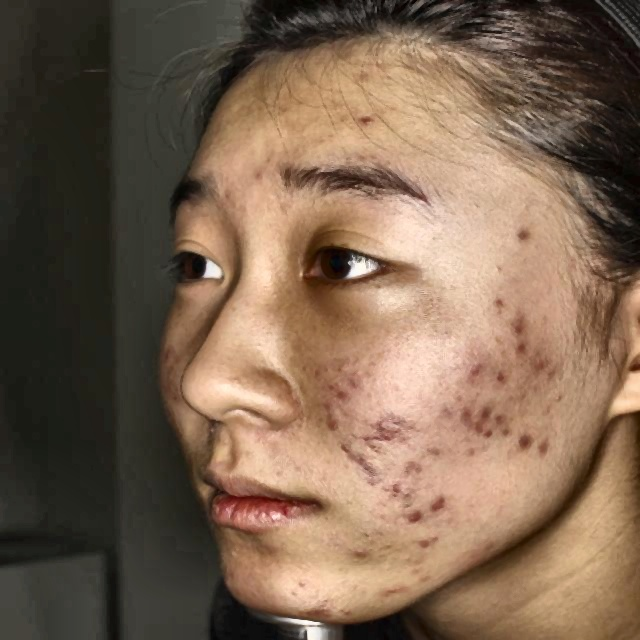papule: (386, 496, 426, 526), (372, 410, 410, 441), (300, 598, 339, 623), (369, 475, 404, 502), (377, 580, 409, 607), (324, 394, 346, 430), (426, 492, 453, 520), (355, 454, 390, 475), (342, 540, 372, 564), (410, 529, 442, 550), (246, 162, 276, 182), (353, 113, 379, 136), (412, 563, 438, 586), (452, 395, 472, 424), (500, 334, 530, 352), (464, 351, 486, 373), (511, 430, 535, 450), (470, 420, 492, 440), (488, 410, 512, 428), (489, 293, 509, 312), (334, 437, 355, 455), (535, 438, 555, 456), (509, 224, 532, 239), (483, 366, 506, 381), (532, 353, 554, 368), (472, 399, 491, 416), (396, 454, 421, 466), (510, 317, 526, 333), (429, 583, 435, 587)
